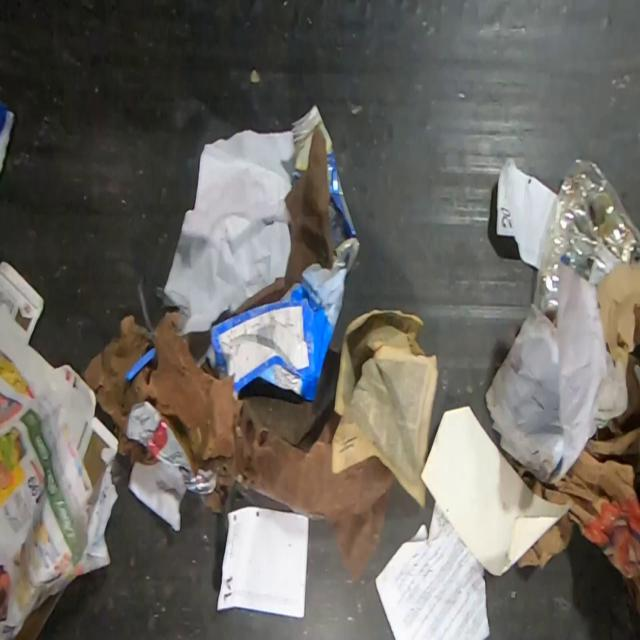cardboard: (210, 257, 345, 404), (592, 264, 631, 414)
metal: (293, 102, 360, 280)
rigid_plastic: (534, 157, 639, 329)
